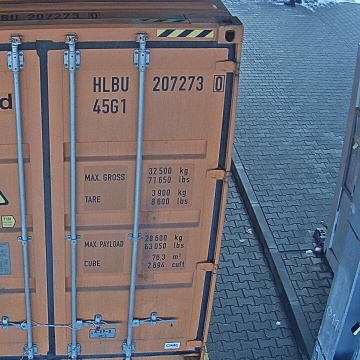serial_id: (94, 76, 223, 91)
